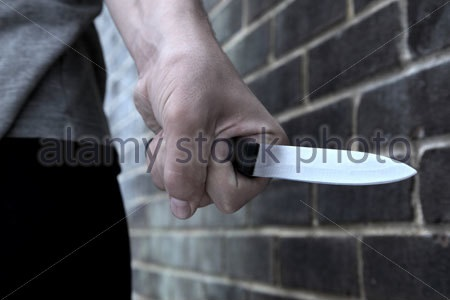knife: (164, 120, 428, 222)
